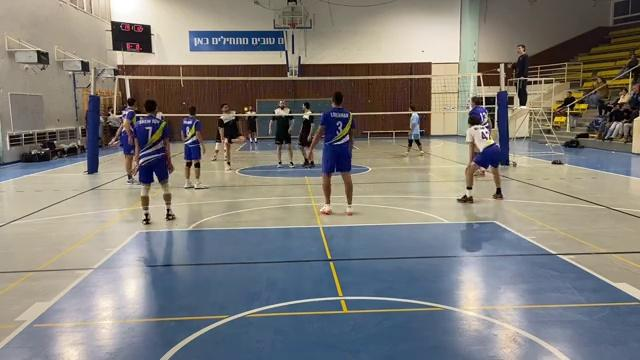ball: (240, 107, 255, 117)
